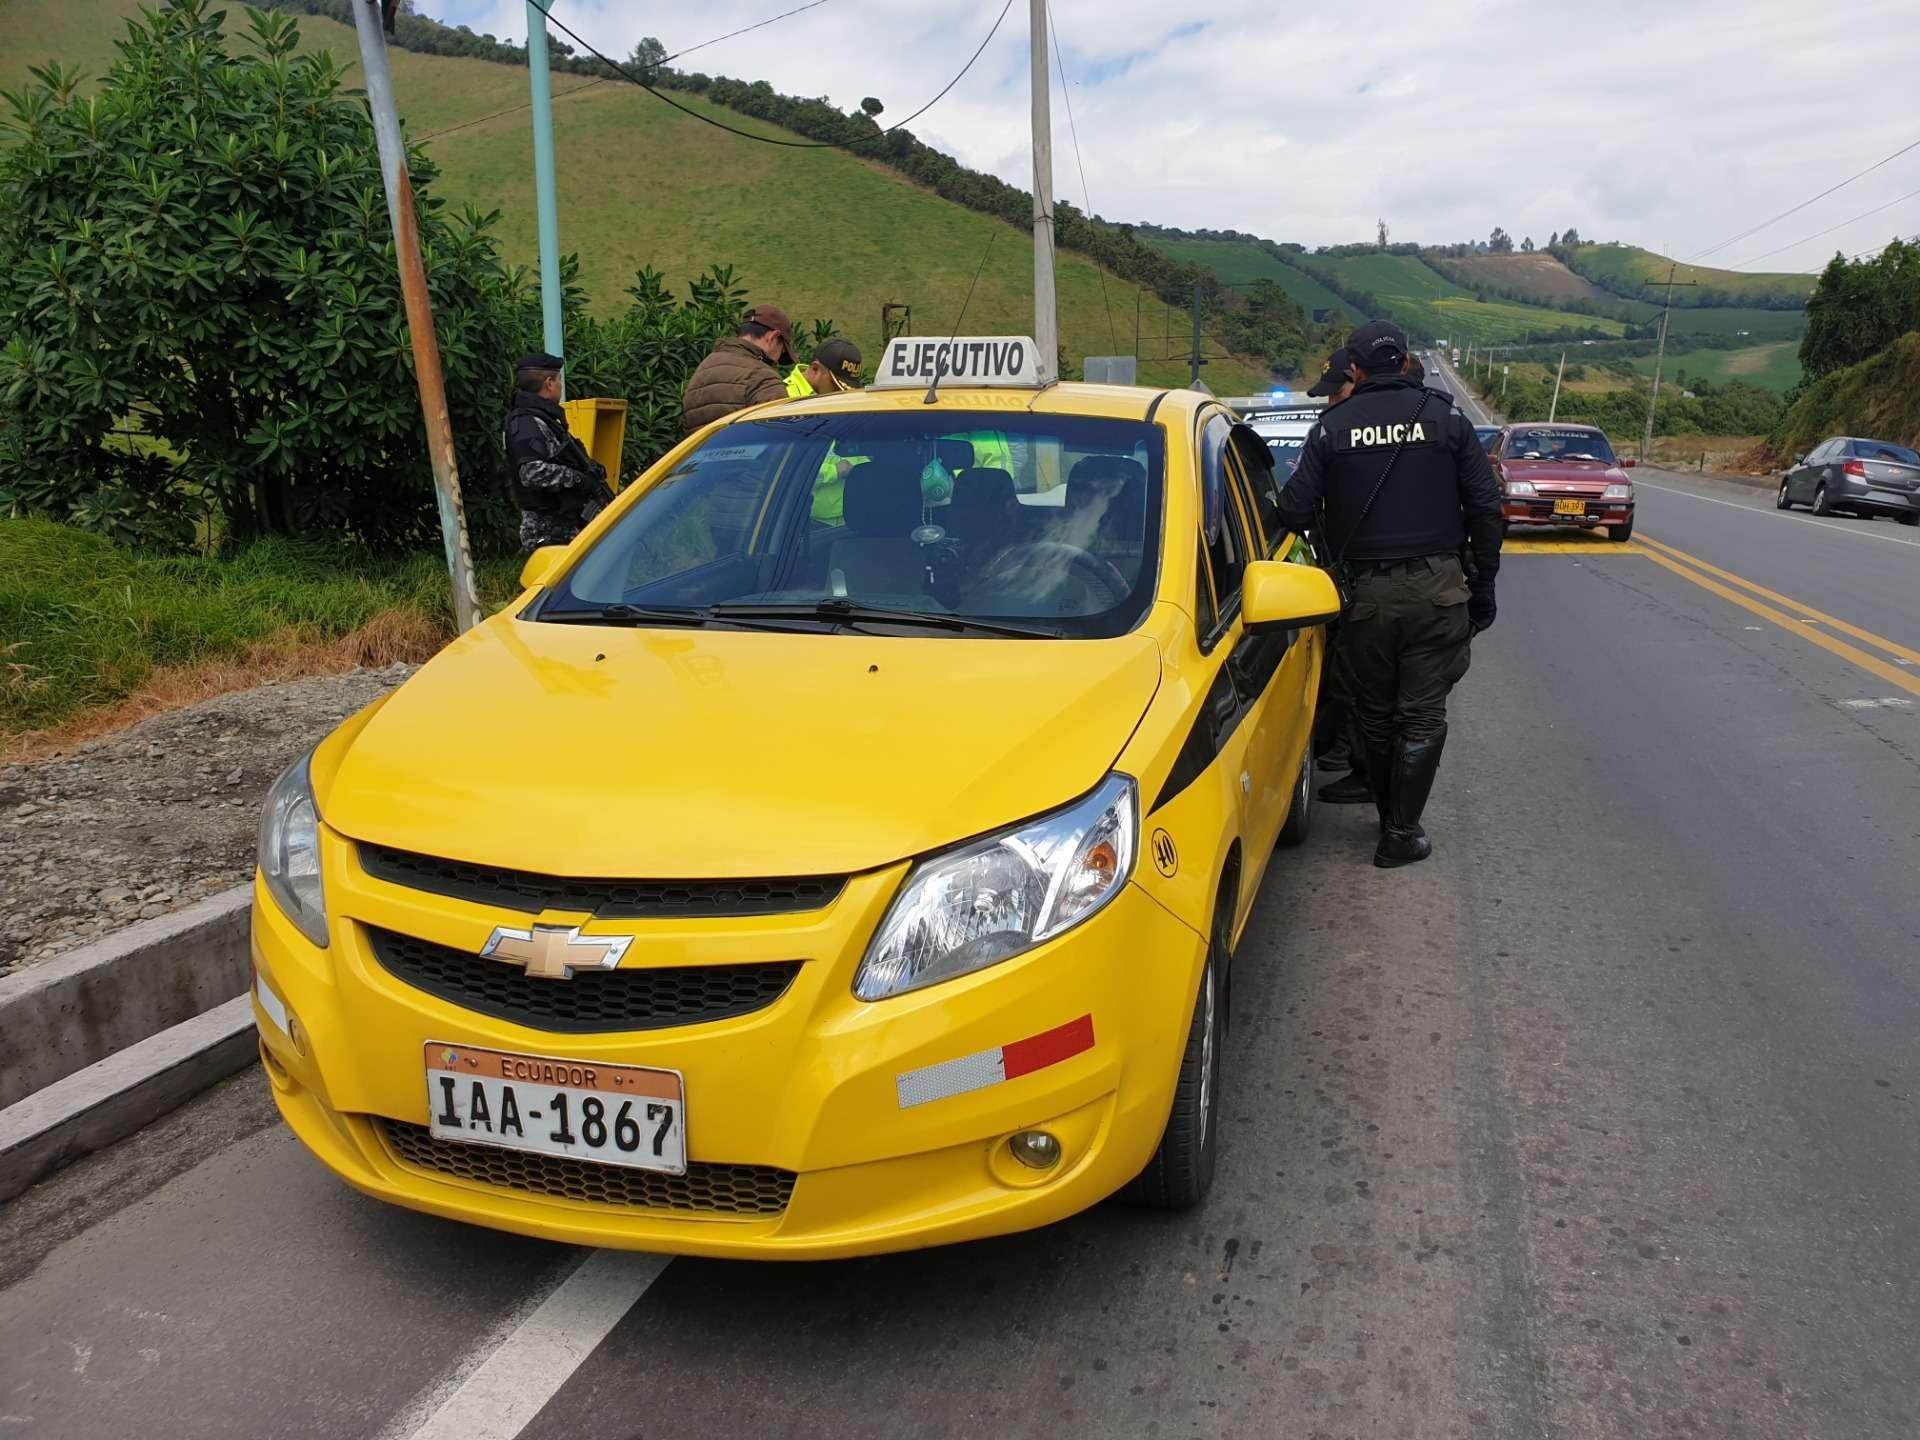taxi: (426, 301, 1312, 1313)
